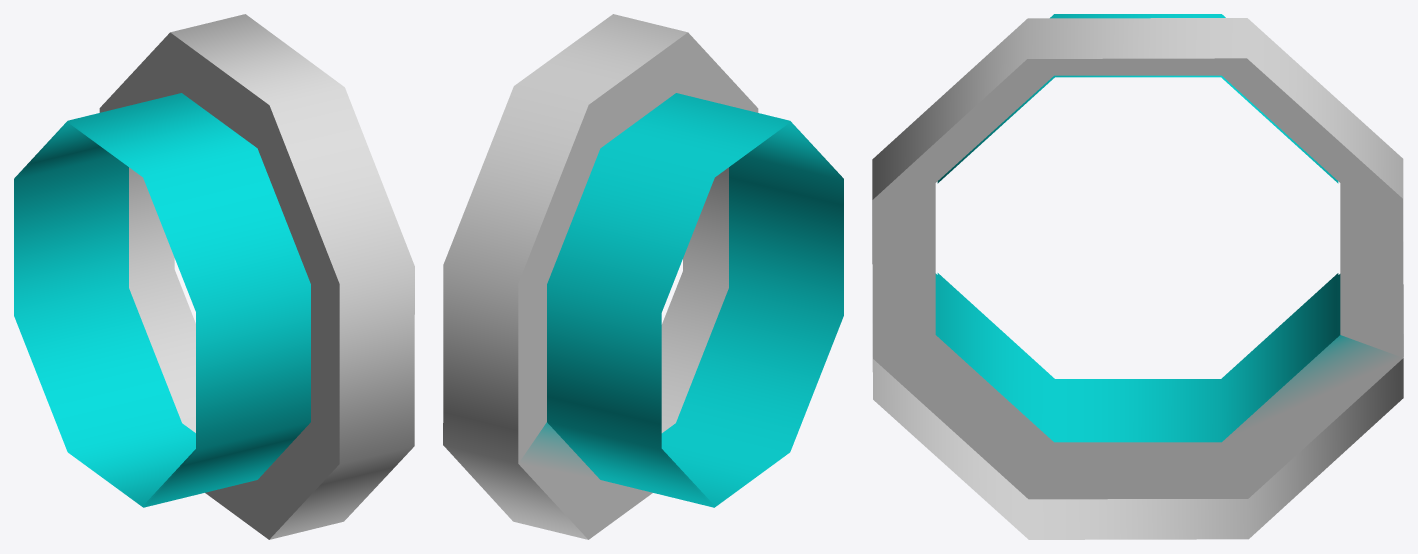
File: FluidConnector_LOD2.fbx
3 renders of one model, left to right at view 1: azimuth 30°, elevation 25°; view 2: azimuth 150°, elevation 25°; view 3: azimuth 270°, elevation 25°, orthographic. The views are drawn at different scales.
Parts seen in each view (by area): view 1: FluidConnector_Right.002; view 2: FluidConnector_Right.002; view 3: FluidConnector_Right.002.
Part boxes in pixels (x1,y1,x2,y2): FluidConnector_Right.002: (14,14,414,539); FluidConnector_Right.002: (443,14,843,539); FluidConnector_Right.002: (872,14,1403,539).
Bounding box in the file's own units: 0.164 × 0.3605 × 0.3605.
